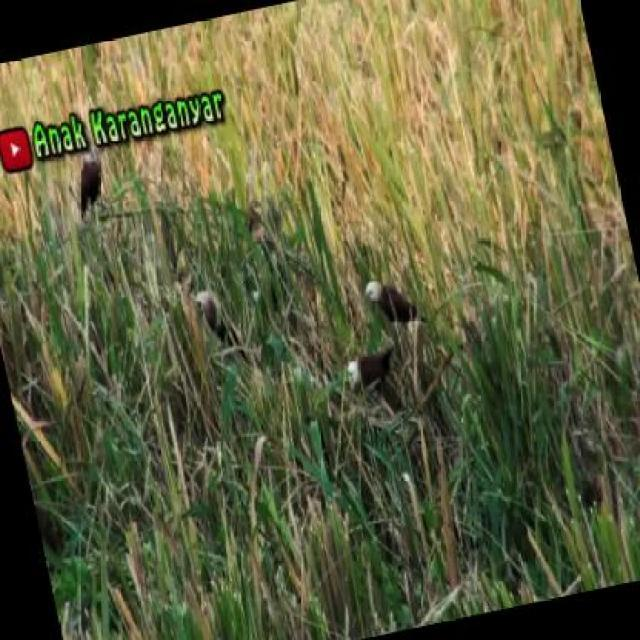Bird: (362, 278, 430, 326), (347, 342, 397, 389), (193, 287, 233, 339), (79, 145, 105, 221)
